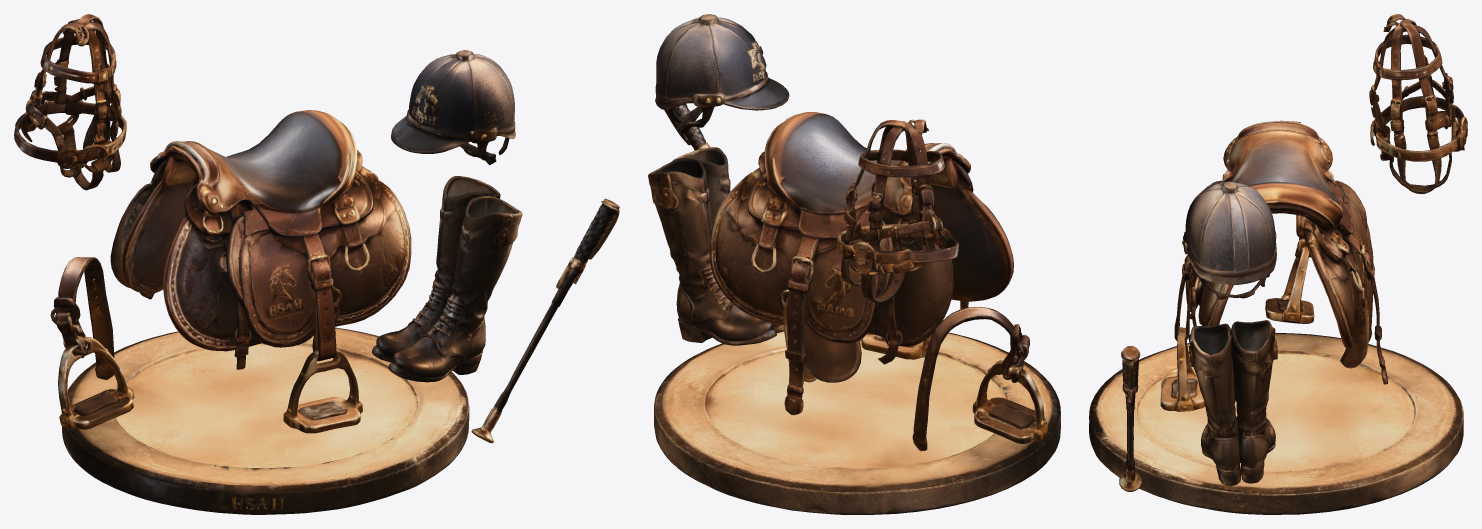
Rendered from riding-gear-low.glb.
3 views of the same model, side by side, from view 1: azimuth 30°, elevation 25°; view 2: azimuth 150°, elevation 25°; view 3: azimuth 270°, elevation 25° (orthographic). The views are drawn at different scales.
Visible parts, largest first — view 1: tripo_node_ac3aacfc-7af9-4e8c-b1da-6549d9a632b8; view 2: tripo_node_ac3aacfc-7af9-4e8c-b1da-6549d9a632b8; view 3: tripo_node_ac3aacfc-7af9-4e8c-b1da-6549d9a632b8.
Boxes of the visible parts, x1,y1,x2,y2 form: tripo_node_ac3aacfc-7af9-4e8c-b1da-6549d9a632b8: [14, 14, 619, 514]; tripo_node_ac3aacfc-7af9-4e8c-b1da-6549d9a632b8: [648, 14, 1060, 514]; tripo_node_ac3aacfc-7af9-4e8c-b1da-6549d9a632b8: [1089, 14, 1467, 514].
Bounding box in the file's own units: 0.9797 × 0.7728 × 0.7324.
1 material, 1 textured.
